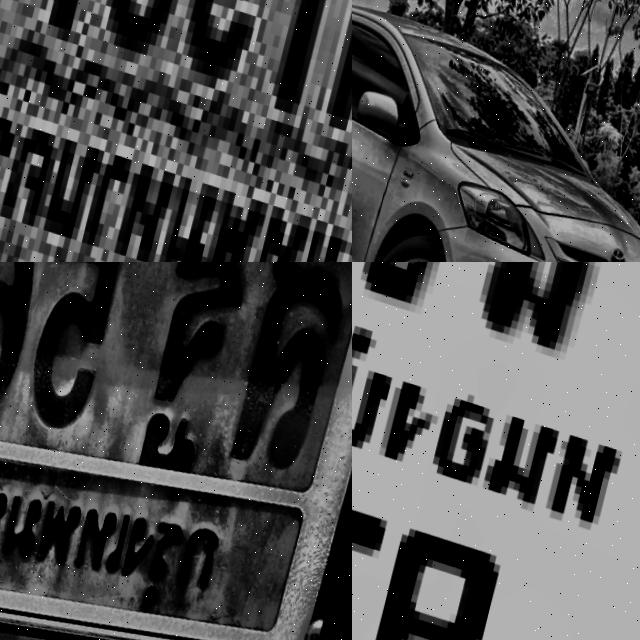license-plate: (0, 262, 352, 640), (352, 262, 640, 640), (0, 0, 352, 262)
